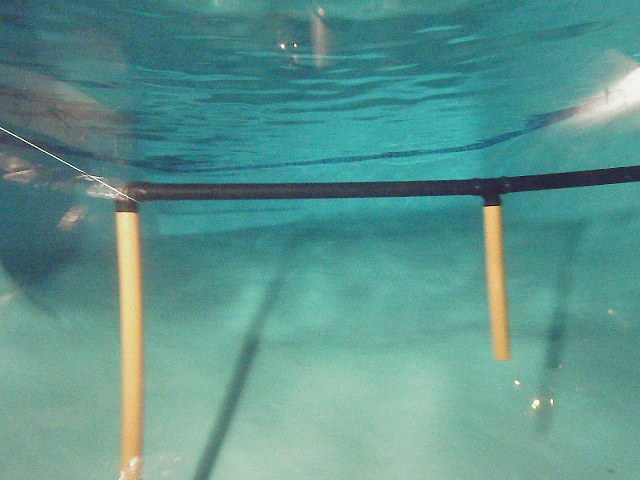Gate: (112, 206, 146, 480), (483, 203, 514, 361)
